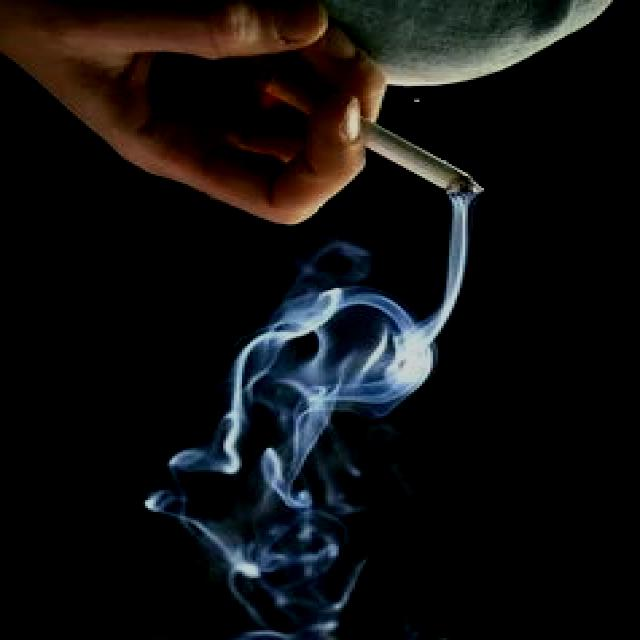cigarette: (255, 62, 487, 204)
